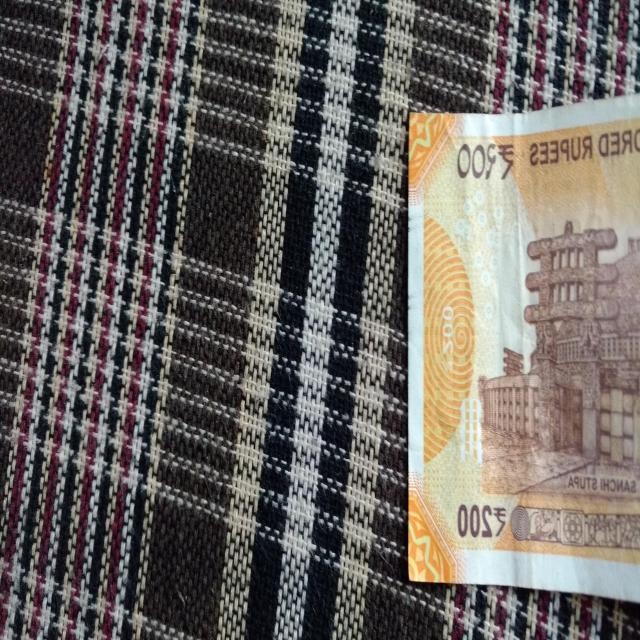Currency: (358, 94, 640, 604)
